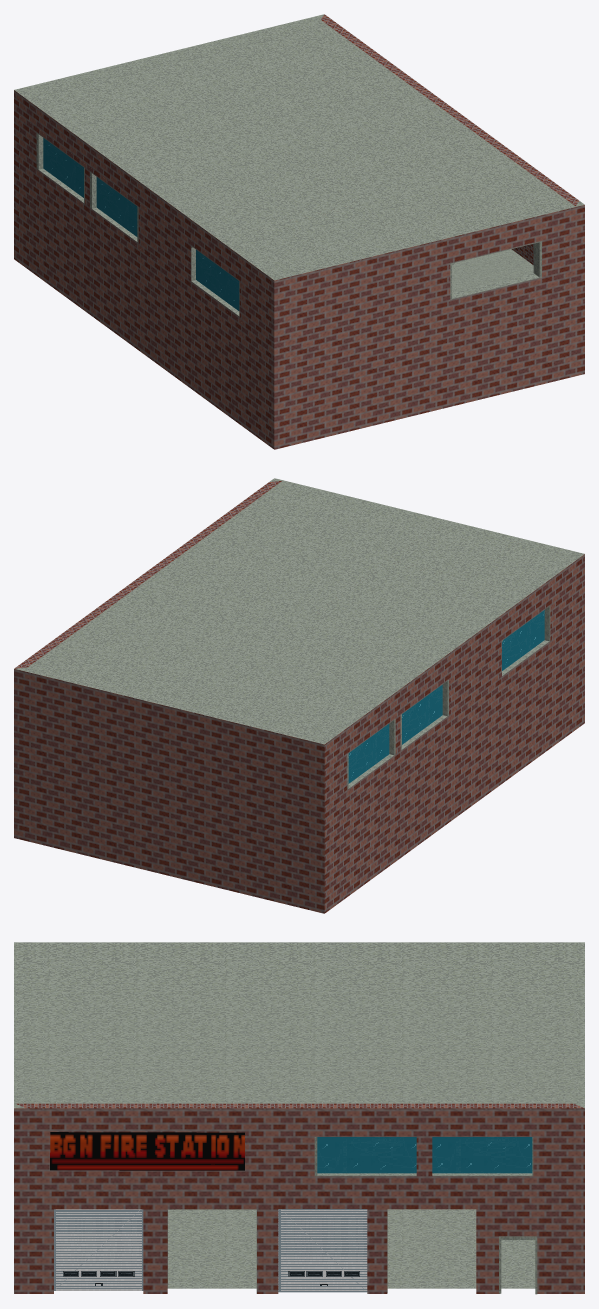
The model's file is -BCW FIRE STATION- (1).fbx.
3 views of the same model, one above another, from view 1: azimuth 30°, elevation 25°; view 2: azimuth 150°, elevation 25°; view 3: azimuth 270°, elevation 25° (orthographic). The views are drawn at different scales.
Parts seen in each view (by area): view 1: exterior, interior; view 2: exterior; view 3: exterior.
Boxes of the visible parts, x1,y1,x2,y2 form: exterior: (14,14,584,449); interior: (452,249,533,292); exterior: (14,478,584,913); exterior: (14,942,584,1294).
Bounding box in the file's own units: 1790 × 968 × 2578.
